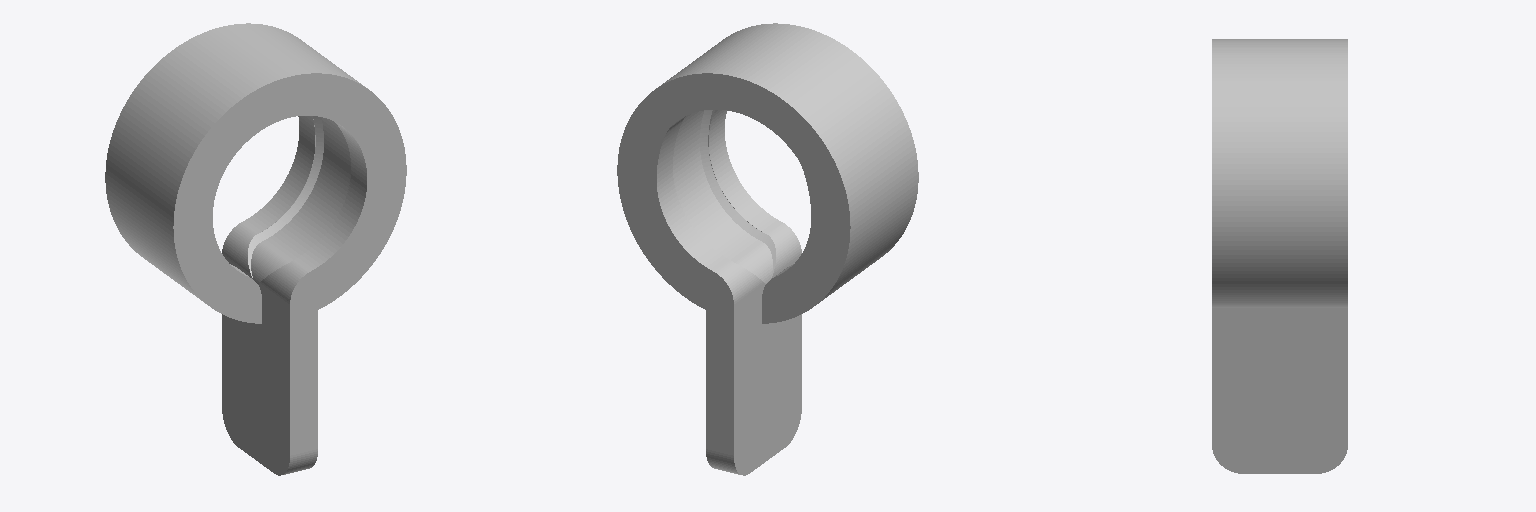
Rendered from V5_Laser Switch (Battery Laser).obj.
3 renders of one model, left to right at view 1: azimuth 30°, elevation 25°; view 2: azimuth 150°, elevation 25°; view 3: azimuth 270°, elevation 25°, orthographic.
Visible parts, largest first — view 1: Solid1:16; view 2: Solid1:16; view 3: Solid1:16.
Boxes of the visible parts, <box> form: Solid1:16: <box>105,23,406,475</box>; Solid1:16: <box>617,23,918,475</box>; Solid1:16: <box>1212,39,1347,473</box>.
Size of the model in its own units: 20.75 by 34.75 by 10.5.